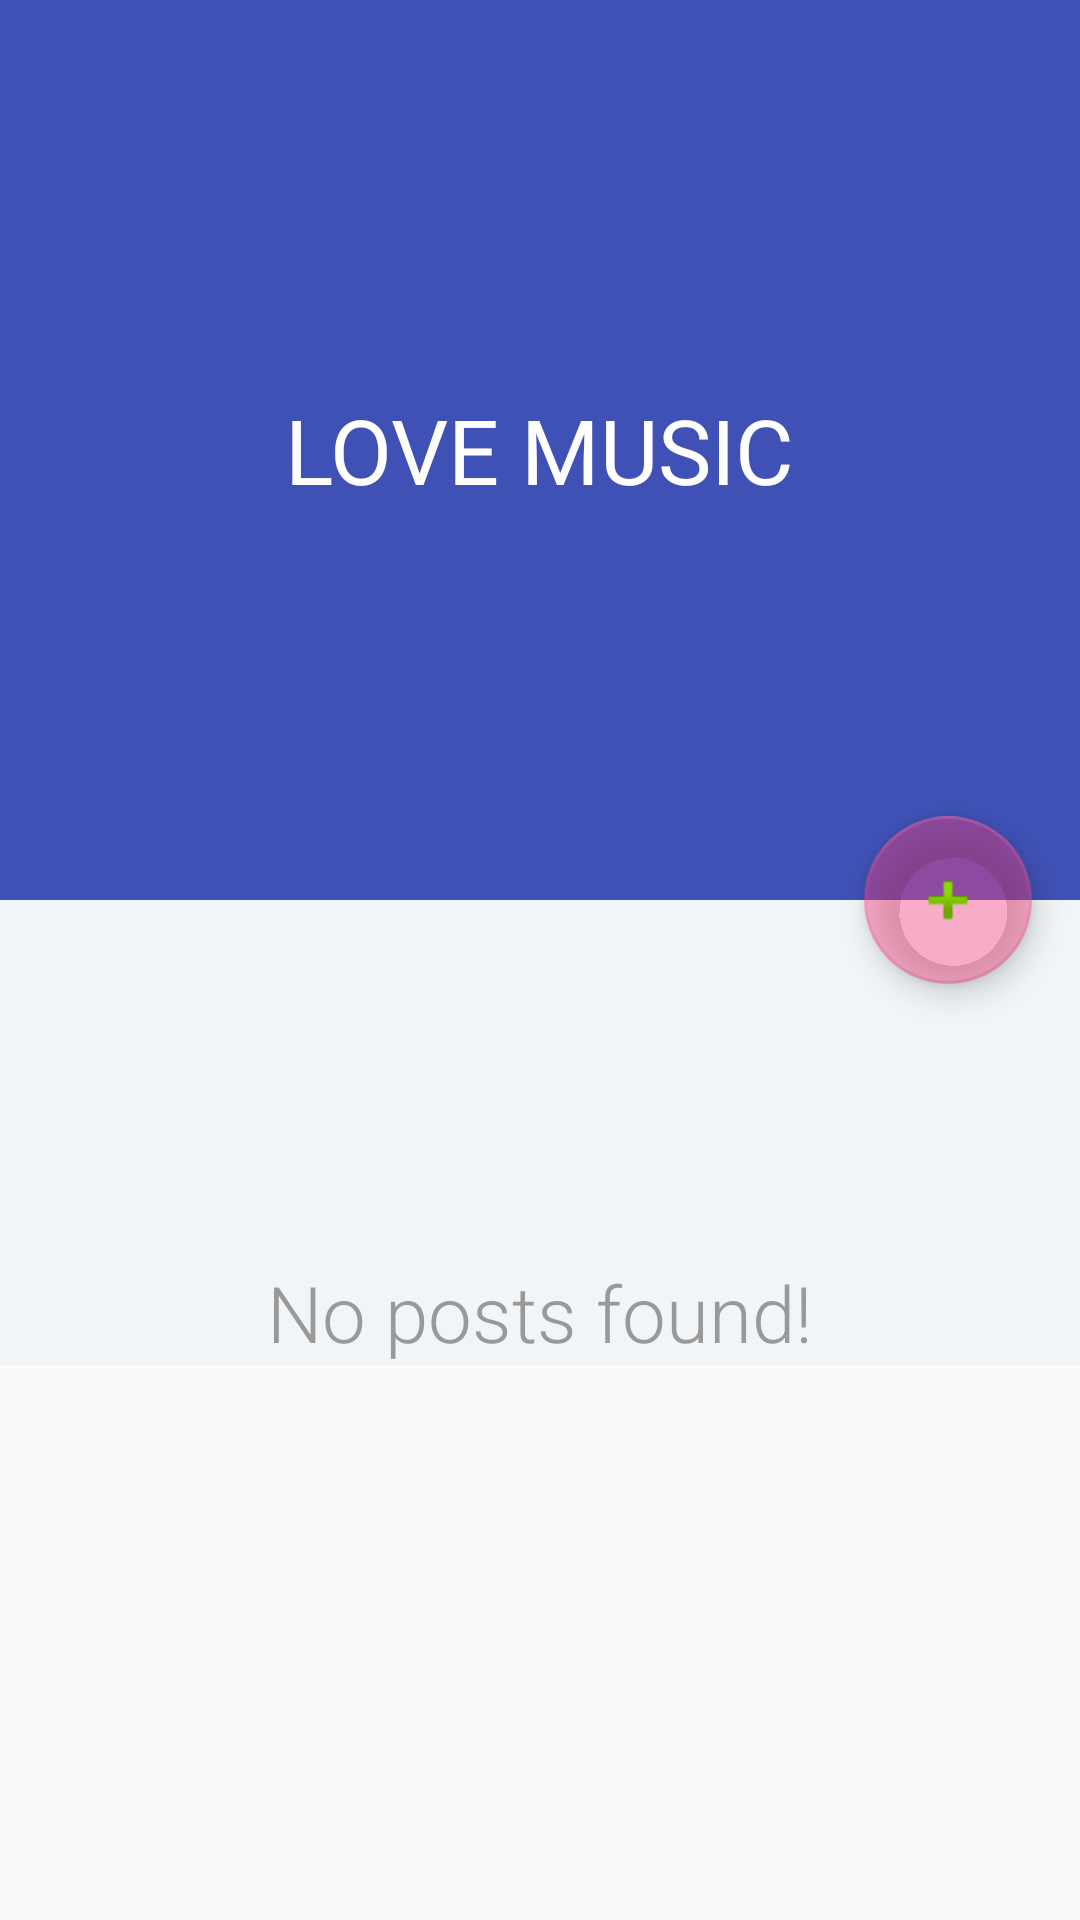

Point at icon controls on the screen. Image size 1080×1920, points as (x=x, y=y).
add: (x=948, y=900)
